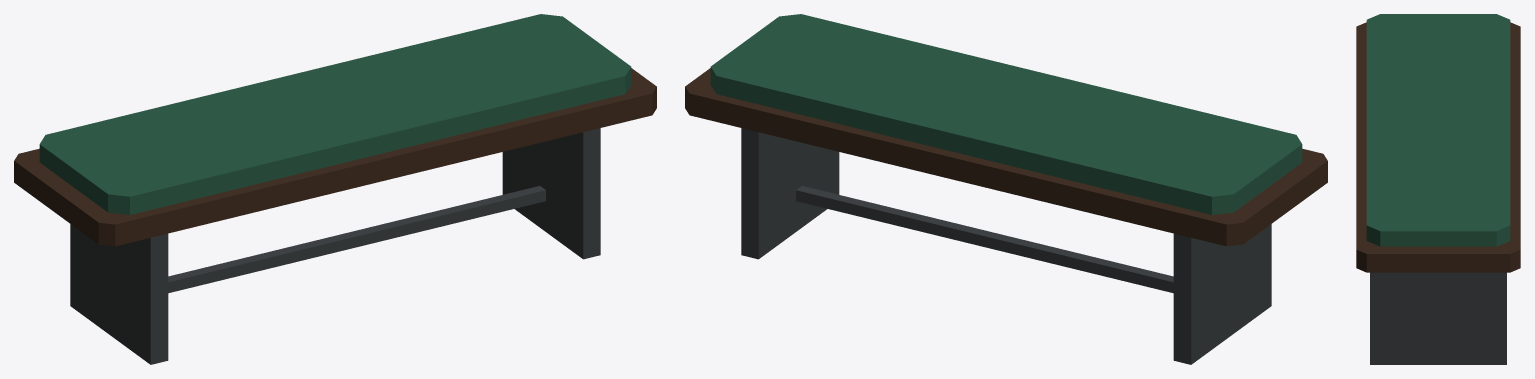
Rendered from bench_waiting.glb.
The picture shows the model from 3 angles, left to right: view 1: azimuth 30°, elevation 25°; view 2: azimuth 150°, elevation 25°; view 3: azimuth 270°, elevation 25°; orthographic projection. The views are drawn at different scales.
Parts seen in each view (by area): view 1: Cojín, Asiento, Pata, Pata.001, Travesaño; view 2: Cojín, Asiento, Pata, Pata.001, Travesaño; view 3: Cojín, Pata.001, Asiento.
Boxes of the visible parts, left/top/right/bottom form: Cojín: left=39, top=14, right=631, bottom=214; Asiento: left=14, top=68, right=656, bottom=246; Pata: left=70, top=224, right=168, bottom=364; Pata.001: left=502, top=128, right=600, bottom=259; Travesaño: left=168, top=186, right=545, bottom=293; Cojín: left=710, top=14, right=1302, bottom=214; Asiento: left=685, top=68, right=1327, bottom=246; Pata: left=1173, top=224, right=1271, bottom=364; Pata.001: left=741, top=128, right=839, bottom=259; Travesaño: left=796, top=186, right=1173, bottom=293; Cojín: left=1366, top=14, right=1510, bottom=246; Pata.001: left=1370, top=272, right=1506, bottom=364; Asiento: left=1356, top=22, right=1520, bottom=272.
Bounding box in the file's own units: 1.6 × 0.48 × 0.48.
